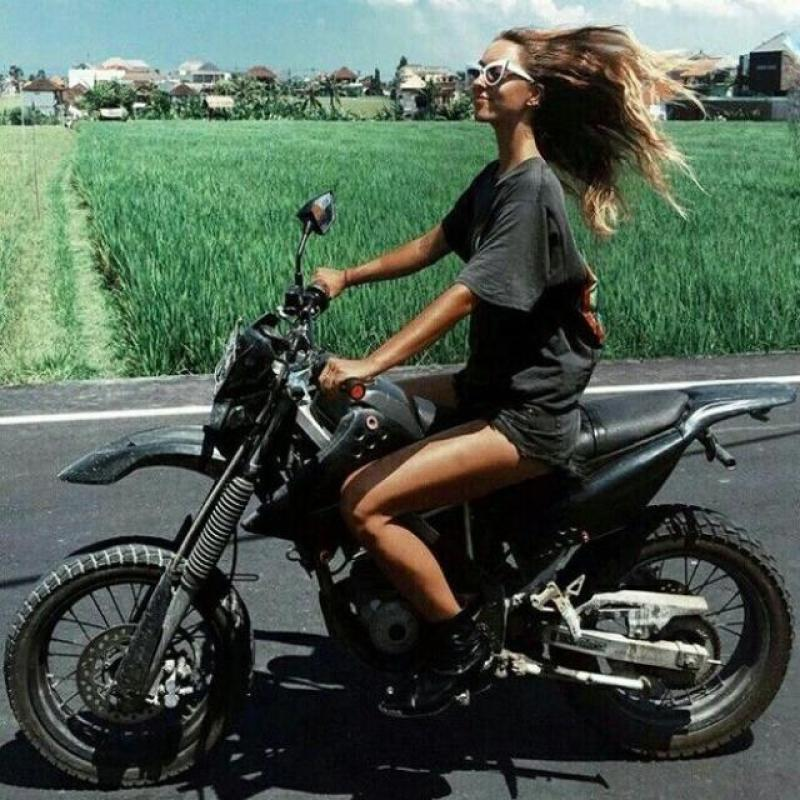nohelmet: (466, 24, 564, 127)
